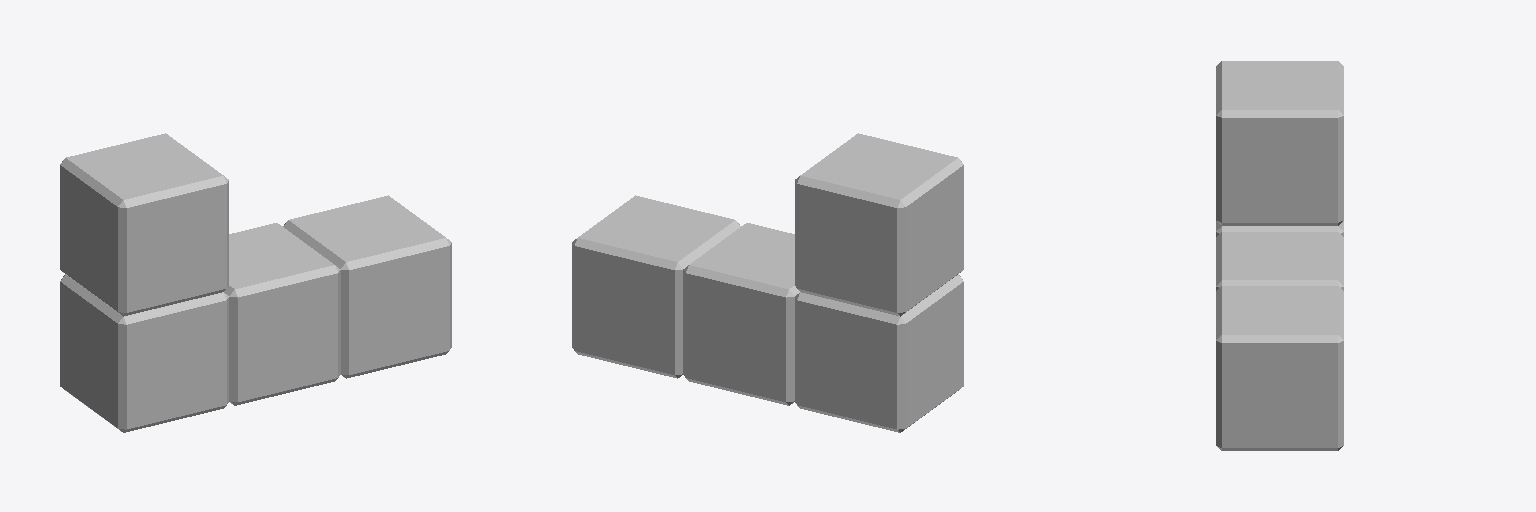
Rendered from fig3.obj.
3 views of the same model, side by side, from view 1: azimuth 30°, elevation 25°; view 2: azimuth 150°, elevation 25°; view 3: azimuth 270°, elevation 25° (orthographic).
Parts seen in each view (by area): view 1: Cube.001, Cube, Cube.003, Cube.002; view 2: Cube.001, Cube, Cube.003, Cube.002; view 3: Cube.001, Cube.003, Cube.002, Cube.
Part boxes in pixels (x1,y1,x2,y2): Cube.001: (60, 133, 228, 316); Cube: (60, 274, 228, 432); Cube.003: (283, 195, 451, 378); Cube.002: (224, 223, 340, 405); Cube.001: (795, 133, 963, 316); Cube: (795, 274, 963, 432); Cube.003: (572, 195, 740, 378); Cube.002: (683, 223, 799, 405); Cube.001: (1216, 61, 1343, 225); Cube.003: (1216, 286, 1343, 450); Cube.002: (1216, 232, 1343, 290); Cube: (1216, 221, 1343, 236).
Bounding box in the file's own units: 6 × 4 × 2.